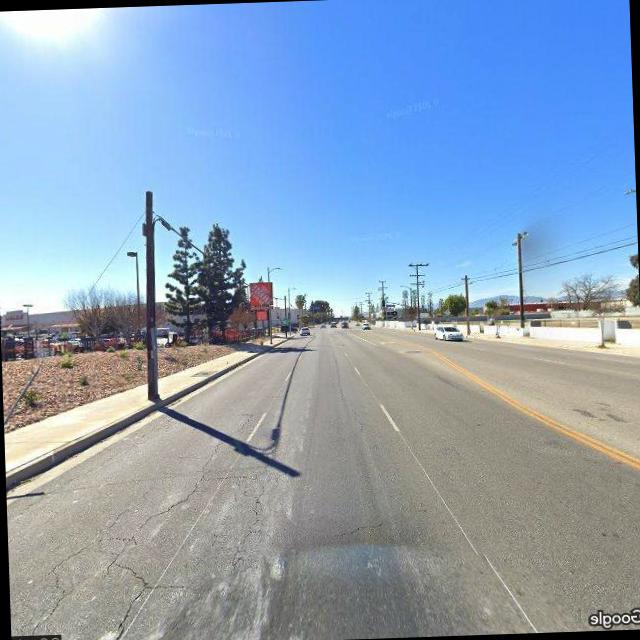pothole: (44, 410, 262, 628)
